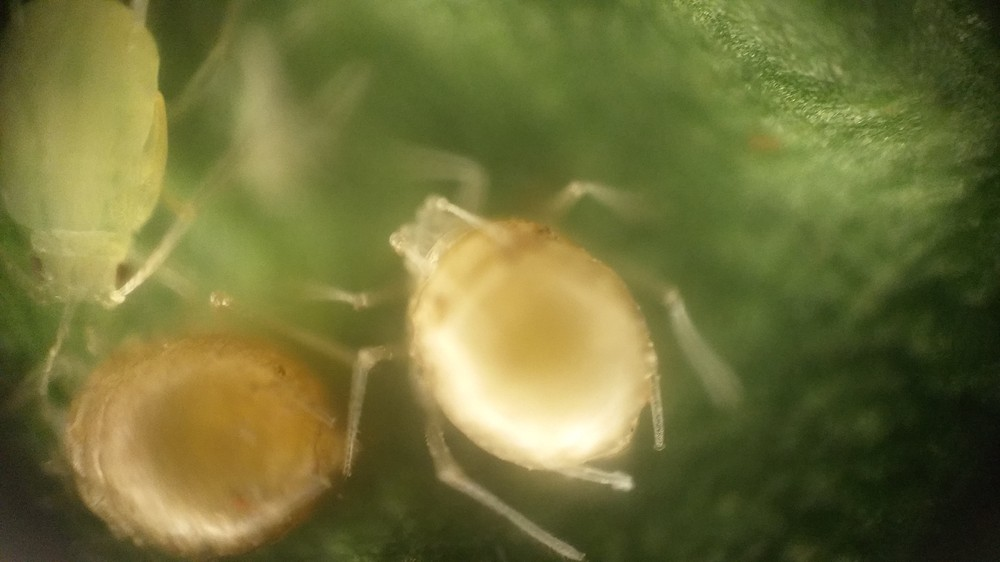Pulgon: (304, 161, 756, 562), (18, 285, 417, 557), (1, 1, 246, 365)
